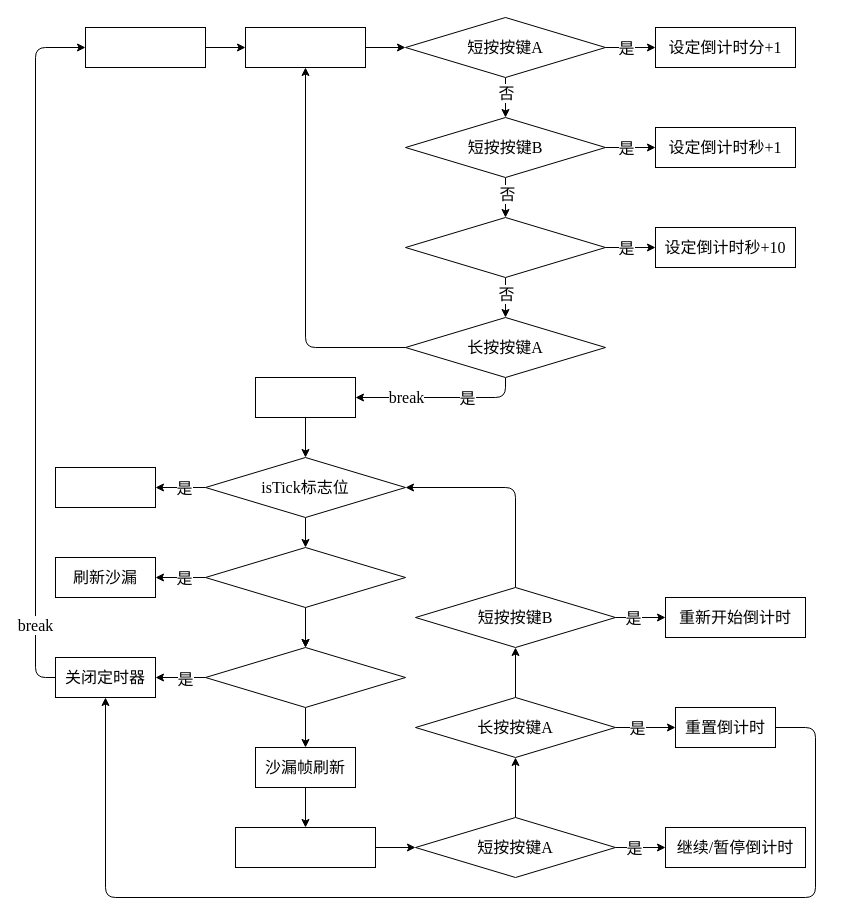
The diagram is 841 pixels wide and 923 high, and some of its shapes have lost their labels. The shapes that lost their labels are listed below. From the top down, each one's centre as x and y in pixels, then its label:
At (x=145, y=47): "外设初始化".
At (x=305, y=47): "闲时按键扫描".
At (x=505, y=247): "长按按键B".
At (x=305, y=397): "启动定时器".
At (x=105, y=487): "更新倒计时".
At (x=305, y=577): "是否需要刷新数据".
At (x=305, y=677): "倒计时是否结束".
At (x=305, y=847): "运行时按键扫描".
